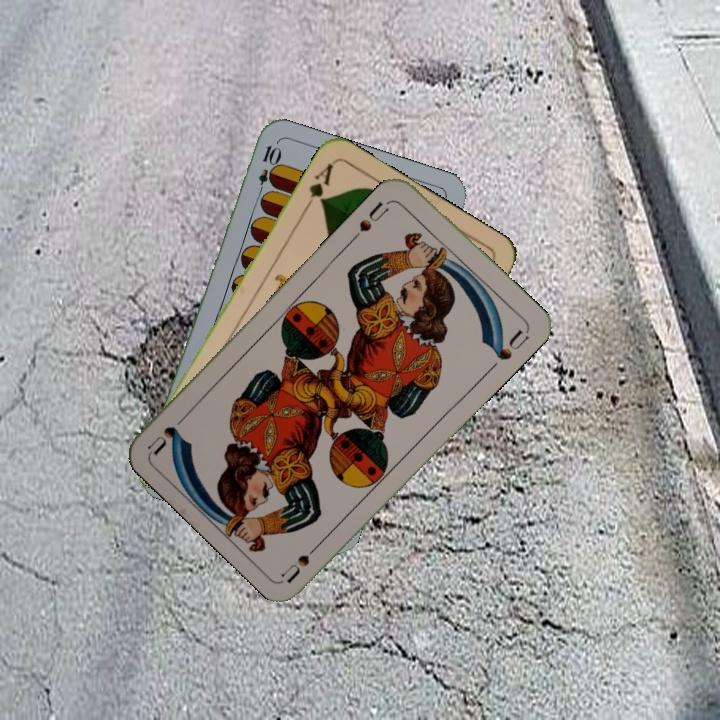E10: (253, 141, 281, 200)
GA: (300, 159, 336, 213)
SU: (278, 535, 327, 585), (349, 196, 395, 243)
